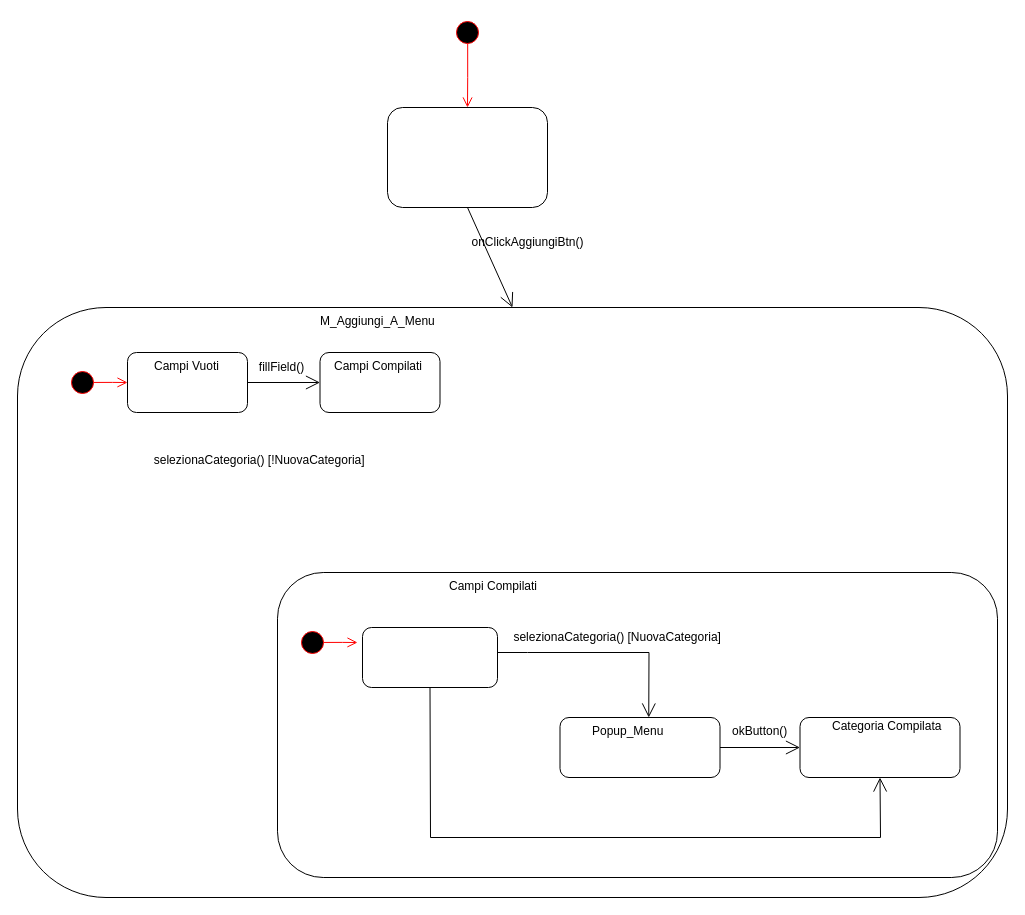
Some shapes in this 1025 by 915 pixel diagram are drawn without their labels. Each missing label, with the box of its shape:
Categoria Vuota: (362, 626, 498, 688)
M_Menu: (386, 106, 548, 208)
